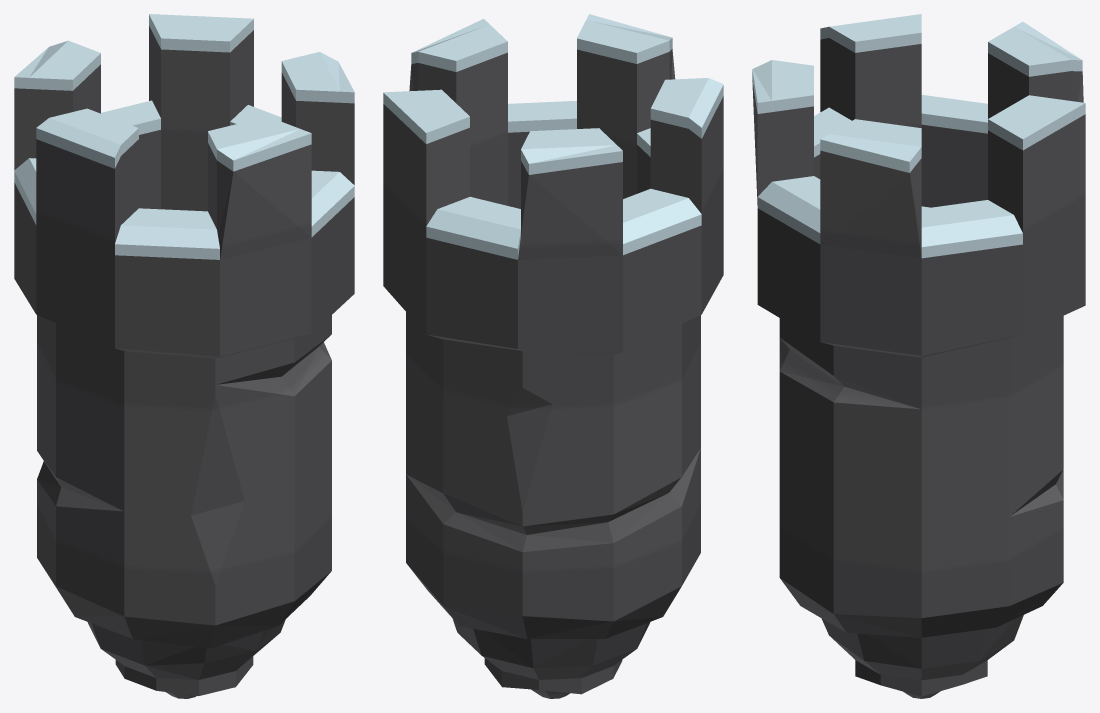
The model's file is SM_Bld_Castle_Tower_Mini_02_Snow.gltf.
3 views of the same model, side by side, from view 1: azimuth 30°, elevation 25°; view 2: azimuth 150°, elevation 25°; view 3: azimuth 270°, elevation 25° (orthographic).
Visible parts, largest first — view 1: SM_Bld_Castle_Tower_Mini_02_Snow; view 2: SM_Bld_Castle_Tower_Mini_02_Snow; view 3: SM_Bld_Castle_Tower_Mini_02_Snow.
Boxes of the visible parts, x1,y1,x2,y2 form: SM_Bld_Castle_Tower_Mini_02_Snow: [14, 14, 354, 698]; SM_Bld_Castle_Tower_Mini_02_Snow: [383, 14, 723, 698]; SM_Bld_Castle_Tower_Mini_02_Snow: [752, 14, 1085, 698].
Bounding box in the file's own units: 1.58 × 3.1 × 1.53.
Materials: 1 (1 with a texture image).
